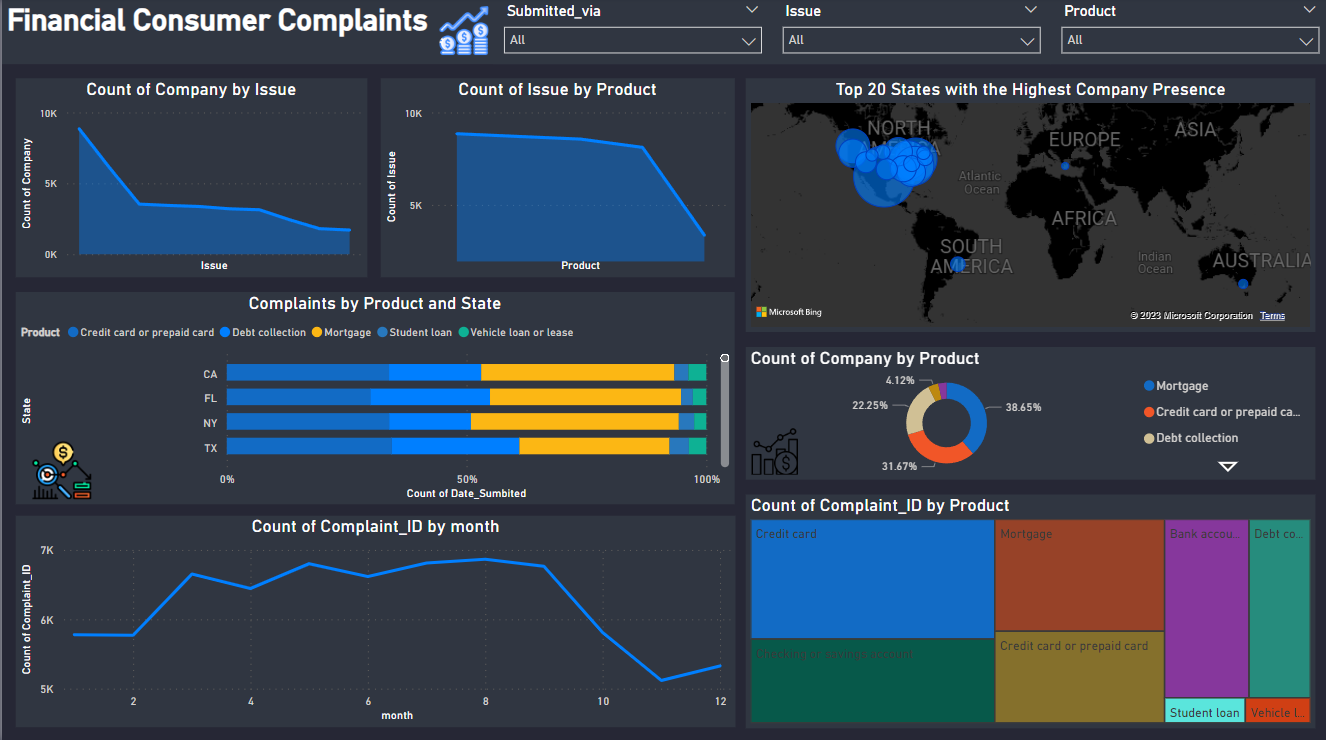

What the dashboard file says about the page in this screenshot:
{"tool":"powerbi","page":{"name":"Page 1","canvas":[1280,720],"ordinal":0},"visuals":[{"type":"textbox","box":[0,0,1280.8,65.1],"z":0},{"type":"slicer","fields":{"Values":["Financial_Consumer_data.Issue"]},"box":[742.9,0,268.9,65.1],"z":1},{"type":"slicer","fields":{"Values":["Financial_Consumer_data.Product"]},"box":[1011.9,0,268.9,65.1],"z":2},{"type":"slicer","fields":{"Values":["Financial_Consumer_data.Submitted_via"]},"box":[474,0,268.9,65.1],"z":3},{"type":"areaChart","fields":{"Category":["Financial_Consumer_data.Issue"],"Y":["CountNonNull(Financial_Consumer_data.Company)"]},"box":[13.3,78.4,338.9,191.8],"z":4},{"type":"hundredPercentStackedBarChart","title":"Complaints by Product and State","fields":{"Series":["Financial_Consumer_data.Product"],"Category":["Financial_Consumer_data.State"],"Y":["CountNonNull(Financial_Consumer_data.Date_Sumbited)"]},"box":[13.3,284.6,693.5,205],"z":5},{"type":"lineChart","fields":{"Y":["CountNonNull(Financial_Consumer_data.Complaint_ID)"],"Category":["Financial_Consumer_data.month"]},"box":[13.3,500.5,694.7,203.8],"z":6},{"type":"areaChart","fields":{"Category":["Financial_Consumer_data.Product"],"Y":["CountNonNull(Financial_Consumer_data.Issue)"]},"box":[365.4,78.4,341.3,191.8],"z":7},{"type":"map","title":"Top 20 States with the Highest Company Presence","fields":{"Category":["Financial_Consumer_data.State"],"Size":["CountNonNull(Financial_Consumer_data.Company)"]},"box":[717.6,78.4,549.9,244.8],"z":8},{"type":"treemap","fields":{"Group":["Financial_Consumer_data.Product"],"Values":["CountNonNull(Financial_Consumer_data.Complaint_ID)"]},"box":[717.6,480,549.9,225.5],"z":9},{"type":"donutChart","fields":{"Category":["Financial_Consumer_data.Product"],"Y":["CountNonNull(Financial_Consumer_data.Company)"]},"box":[717.6,337.7,549.9,127.8],"z":10},{"type":"image","box":[417.3,0,56.7,65.1],"z":11},{"type":"image","box":[717.6,411.3,55.5,54.3],"z":12},{"type":"image","box":[22.9,423.3,69.9,66.3],"z":13}]}

Visuals, with their boxes in screenshot pixels (x1, y1, x2, y2), scaled from the page's 1280x720 canvas onto the 1326x740 screenshot:
textbox: rect(0, 0, 1325, 67)
slicer - Financial_Consumer_data.Issue: rect(770, 0, 1048, 67)
slicer - Financial_Consumer_data.Product: rect(1048, 0, 1325, 67)
slicer - Financial_Consumer_data.Submitted_via: rect(491, 0, 770, 67)
areaChart - Financial_Consumer_data.Issue x CountNonNull(Financial_Consumer_data.Company): rect(14, 81, 365, 278)
"Complaints by Product and State" hundredPercentStackedBarChart: rect(14, 293, 732, 503)
lineChart - CountNonNull(Financial_Consumer_data.Complaint_ID) x Financial_Consumer_data.month: rect(14, 514, 733, 724)
areaChart - Financial_Consumer_data.Product x CountNonNull(Financial_Consumer_data.Issue): rect(379, 81, 732, 278)
"Top 20 States with the Highest Company Presence" map: rect(743, 81, 1313, 332)
treemap - Financial_Consumer_data.Product x CountNonNull(Financial_Consumer_data.Complaint_ID): rect(743, 493, 1313, 725)
donutChart - Financial_Consumer_data.Product x CountNonNull(Financial_Consumer_data.Company): rect(743, 347, 1313, 478)
image: rect(432, 0, 491, 67)
image: rect(743, 423, 801, 479)
image: rect(24, 435, 96, 503)
